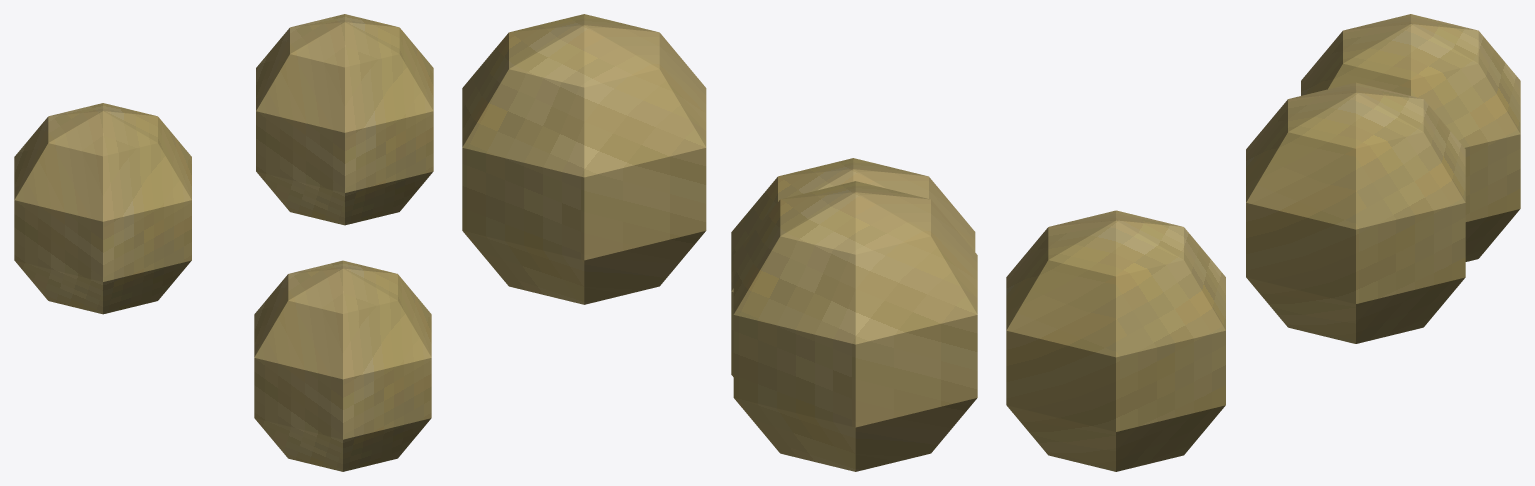
The model's file is manareceptacle.obj.
3 views of the same model, side by side, from view 1: azimuth 30°, elevation 25°; view 2: azimuth 150°, elevation 25°; view 3: azimuth 270°, elevation 25° (orthographic). The views are drawn at different scales.
Parts seen in each view (by area): view 1: Cube.001_Cube.000; view 2: Cube.001_Cube.000; view 3: Cube.001_Cube.000.
Part boxes in pixels (x1,y1,x2,y2): Cube.001_Cube.000: (14, 14, 433, 471); Cube.001_Cube.000: (462, 14, 977, 471); Cube.001_Cube.000: (1006, 14, 1520, 471).
Size of the model in its own units: 0.851 by 0.7104 by 0.7718.
